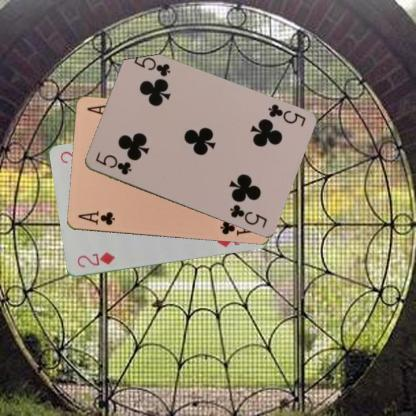2d: (75, 249, 116, 270)
5c: (265, 102, 307, 128), (92, 150, 133, 176)
Ac: (75, 208, 116, 226)
